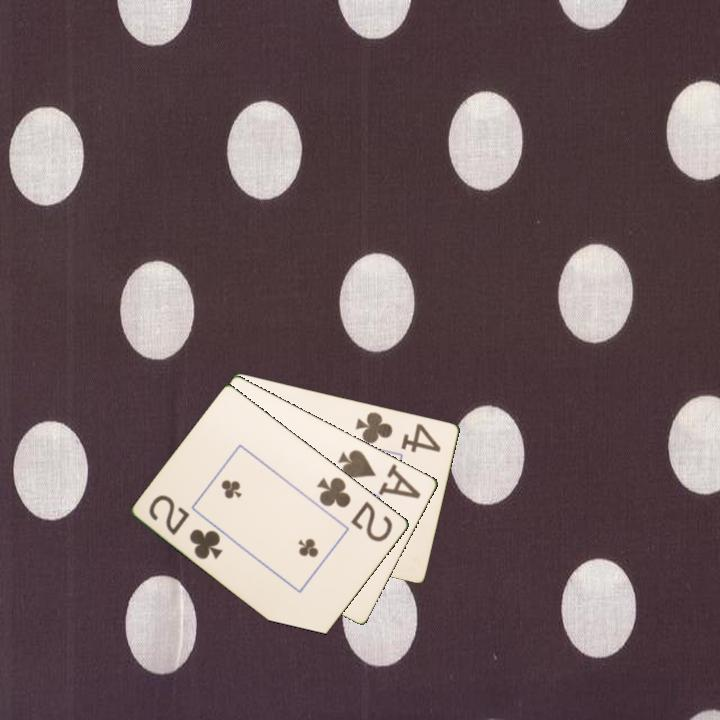2c: (313, 473, 396, 545), (145, 491, 226, 563)
4c: (352, 408, 444, 455)
As: (335, 446, 416, 496)
